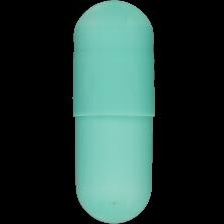55289-258: (0, 0, 224, 224)
